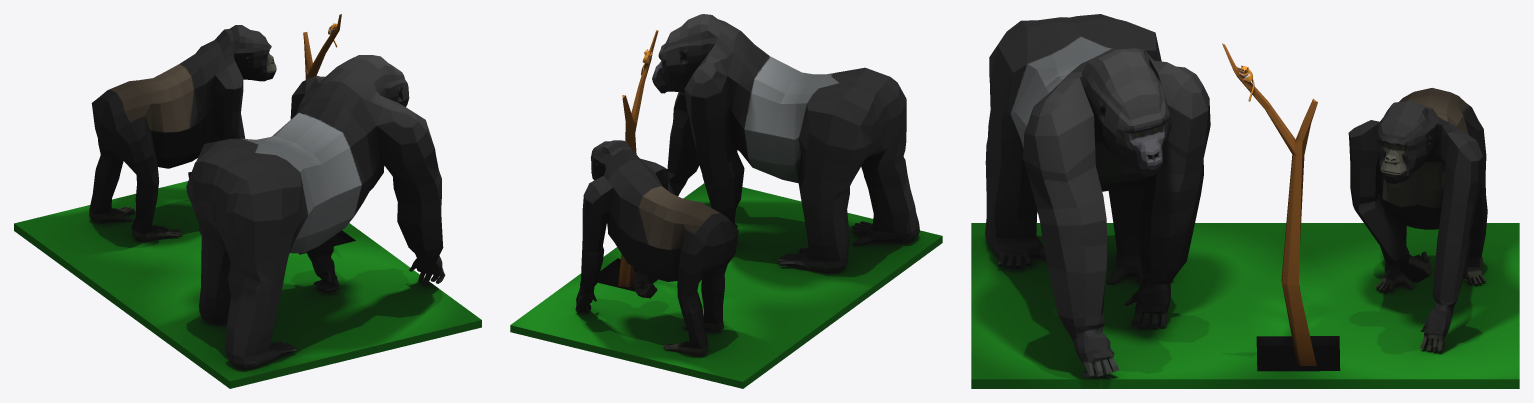
Rendered from gorilla-mouselemur.glb.
The picture shows the model from 3 angles, left to right: view 1: azimuth 30°, elevation 25°; view 2: azimuth 150°, elevation 25°; view 3: azimuth 270°, elevation 25°; orthographic projection. The views are drawn at different scales.
Visible parts, largest first — view 1: Female; view 2: Female; view 3: Female.
Boxes of the visible parts, <box> form: Female: <box>14,14,481,388</box>; Female: <box>510,14,942,388</box>; Female: <box>971,14,1519,388</box>.
Bounding box in the file's own units: 1.81 × 1.68 × 2.59.
1 material, 1 textured.
